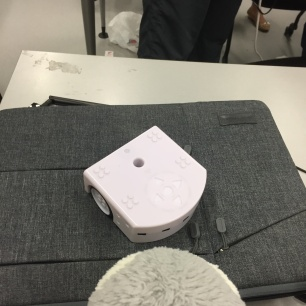thymio: (78, 123, 213, 245)
